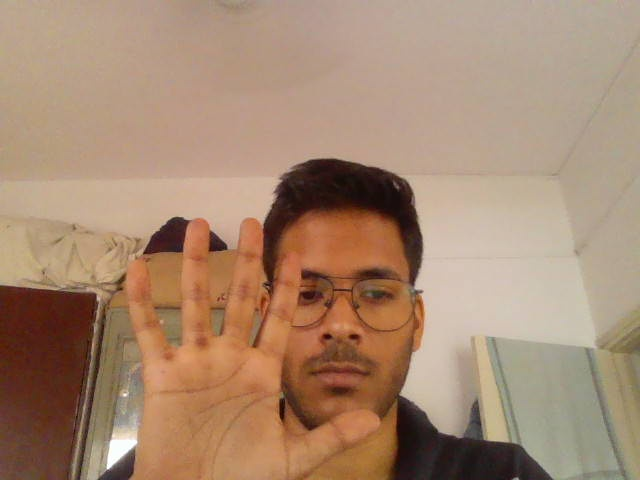hello: (102, 210, 391, 480)
